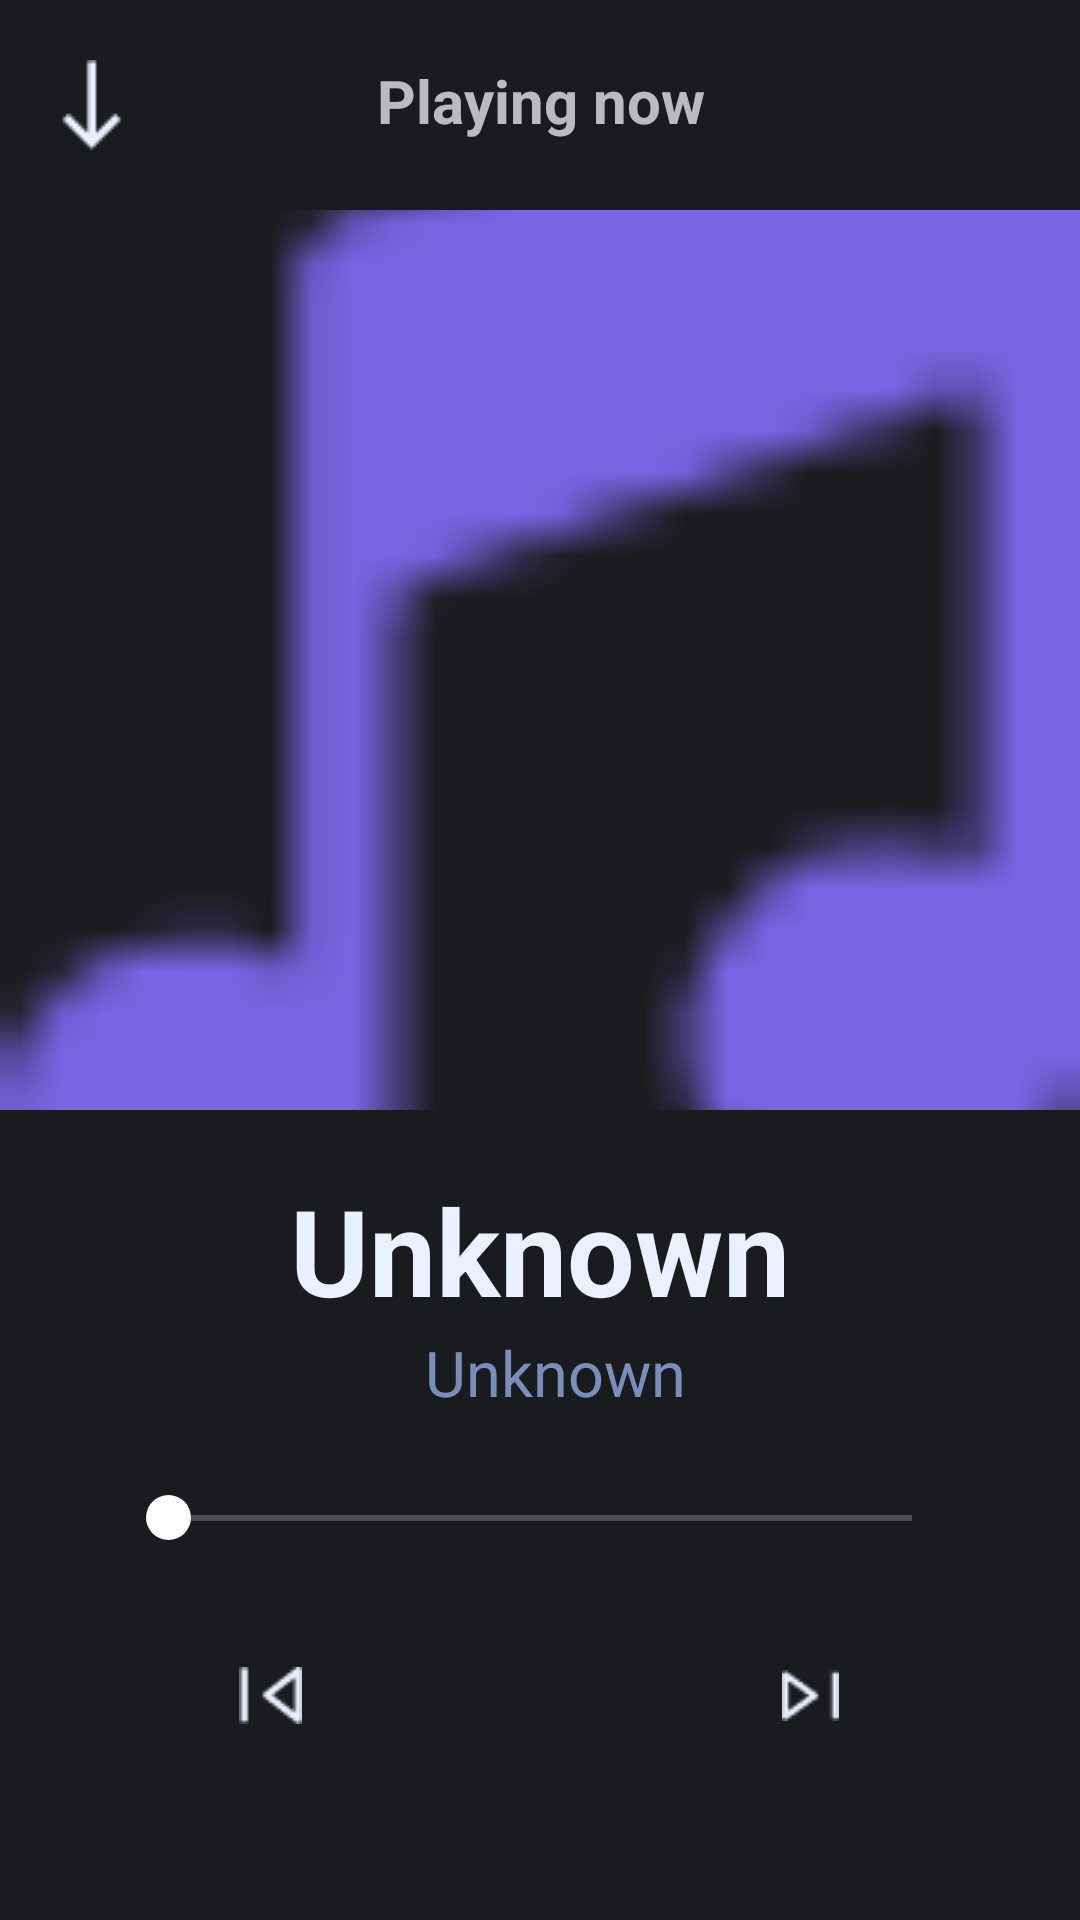

Named icons in this screenshot (1080px×1920px) and their centers, (x,y):
close player: (91,105)
next: (810,1695)
previous: (270,1695)
